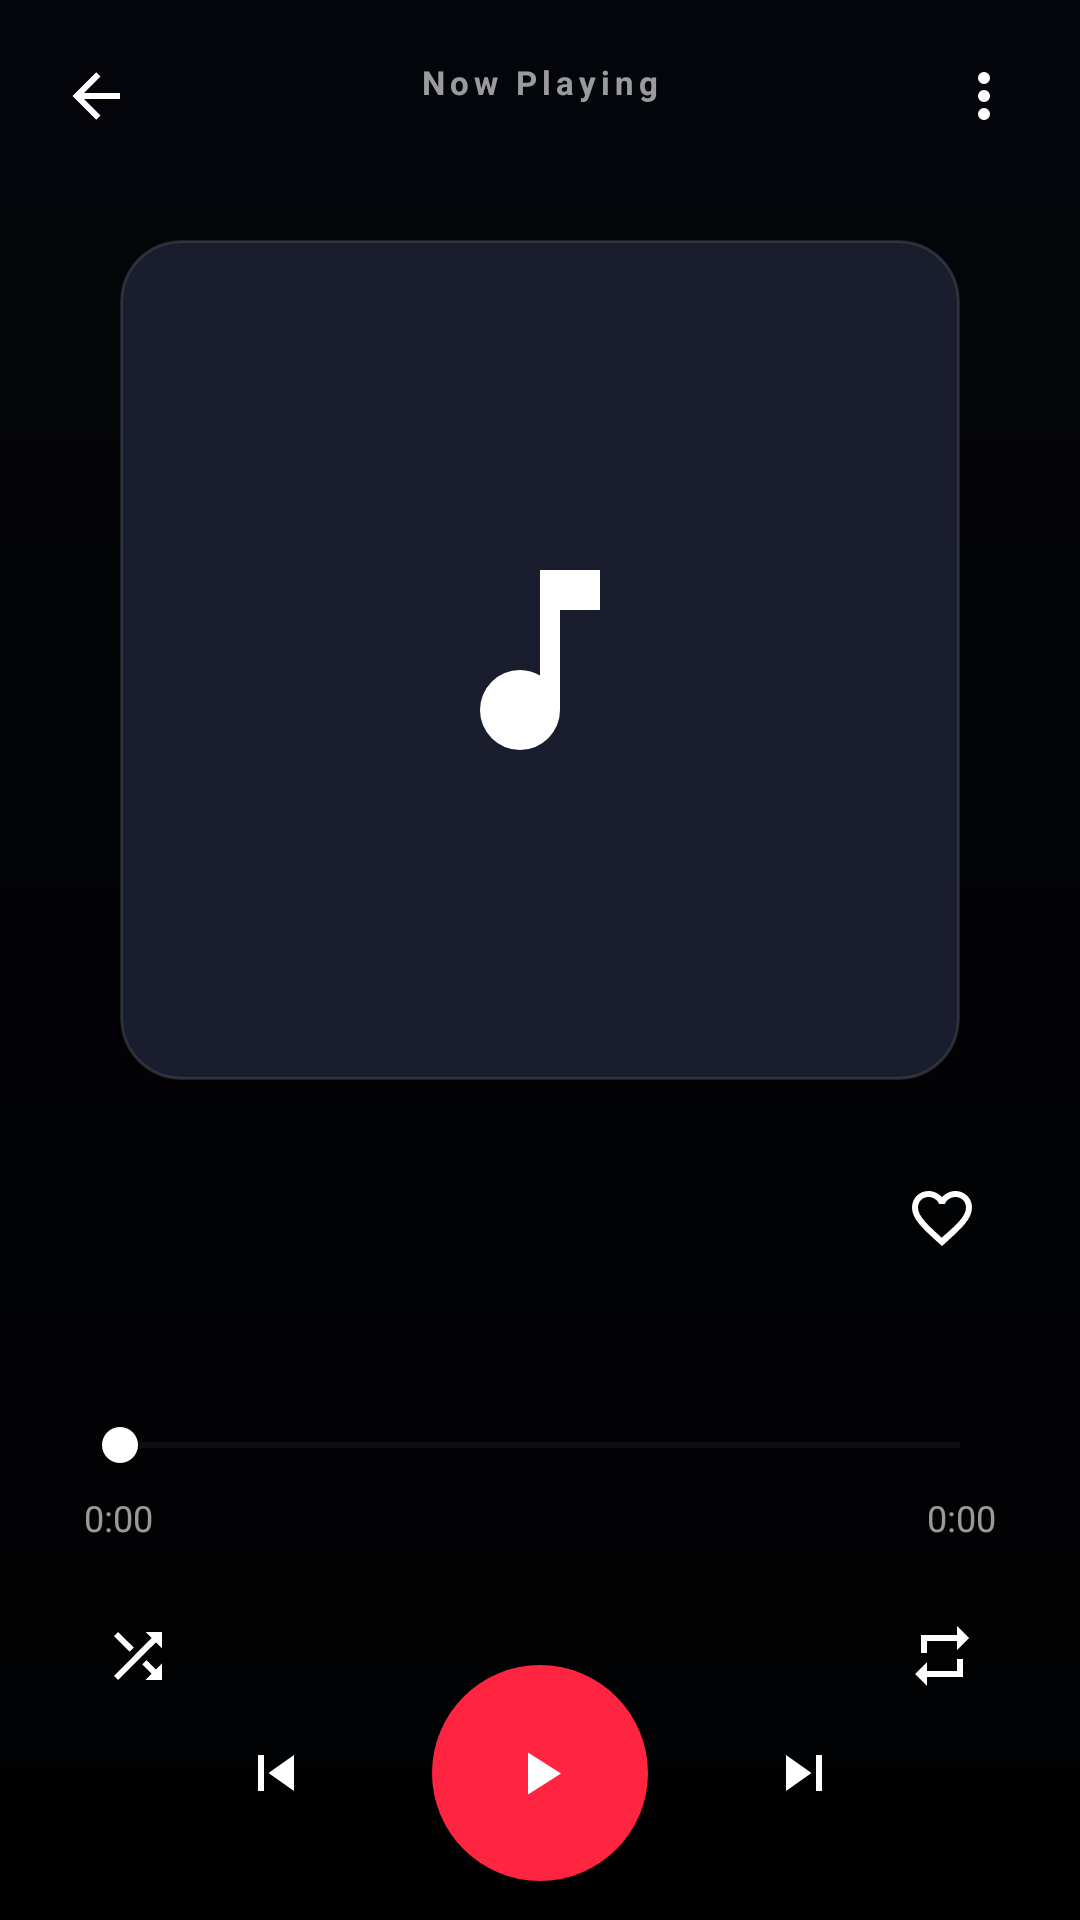

Icon click points for this 1080px×1920px phone screenshot, format [x,y]:
Back: [96,96]
Like: [942,1218]
More: [984,96]
music note: [540,660]
Next: [804,1773]
Play / Pause: [540,1773]
Previous: [276,1773]
Repeat: [942,1656]
Shuffle: [138,1656]
